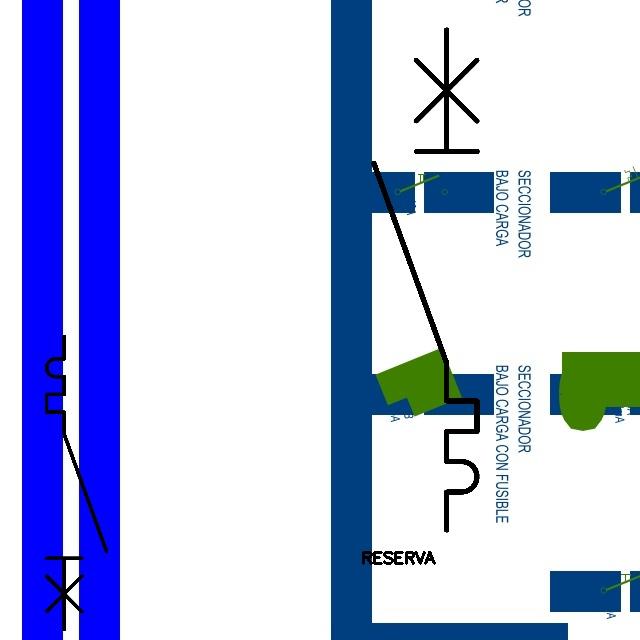interruptor_termomagnetico: (361, 17, 490, 543), (39, 329, 114, 637)
